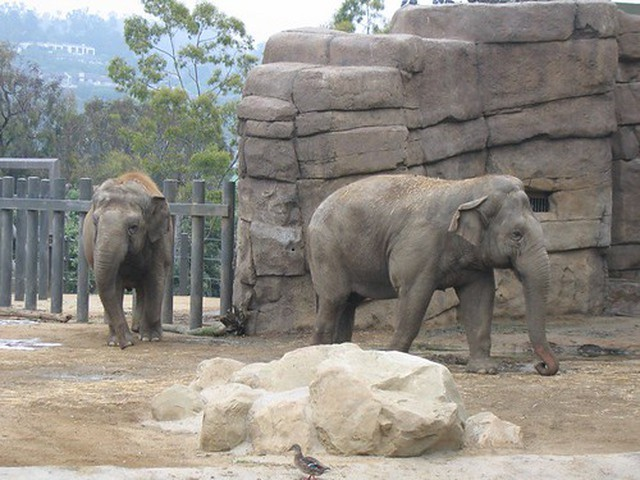Elephant: (304, 170, 572, 373), (79, 172, 180, 345)
